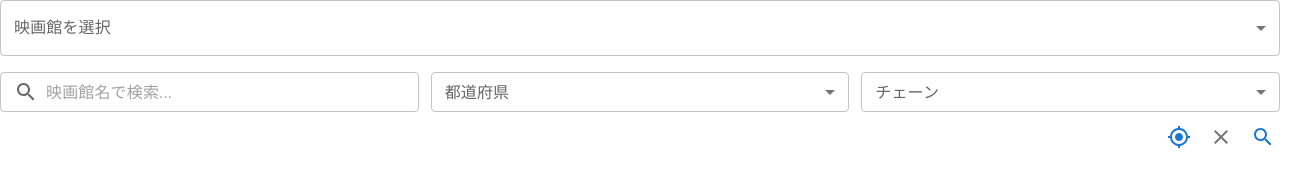
Scenario: TheaterSearch Component › Search Functionality › clears filters when clear button is clicked
The width and height of the screenshot is (1292, 171).
Note: Set some filters first
Type "梅田" into the field with placeholder "映画館名で検索...".
click(232, 92); type("梅田")  # box [46,72,419,112]
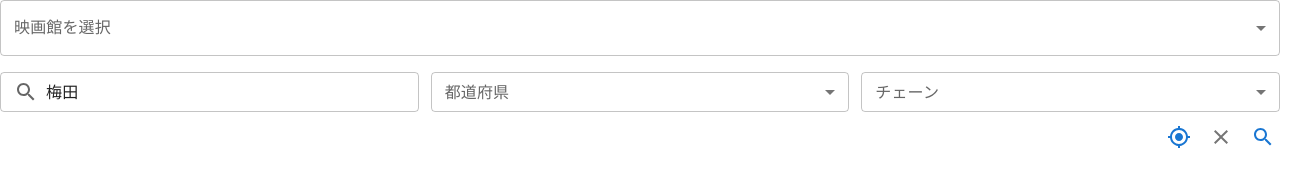
Click the button named "条件をクリア".
click(1221, 137)  # box [1204,120,1238,154]
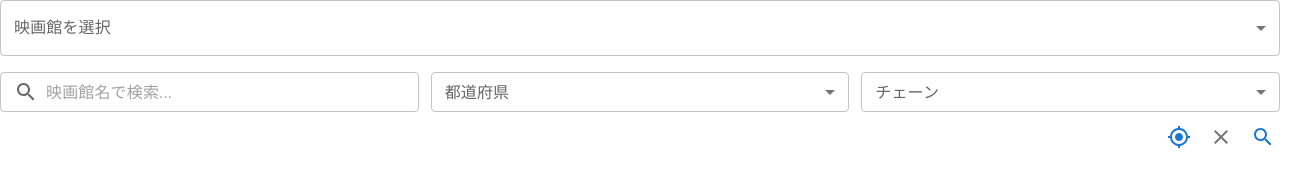
Expected: the field with placeholder "映画館名で検索..." is empty, [46,72,419,112]
